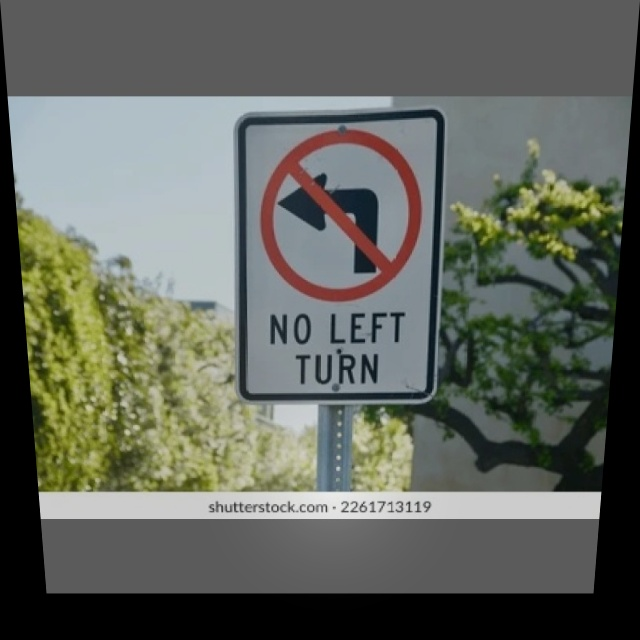Left_Turn_Prohibited: (252, 127, 428, 307)
